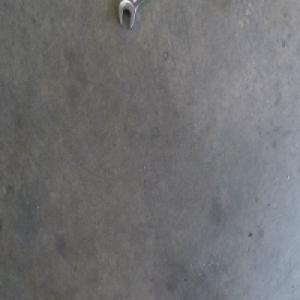Wrench: (117, 0, 145, 29)
